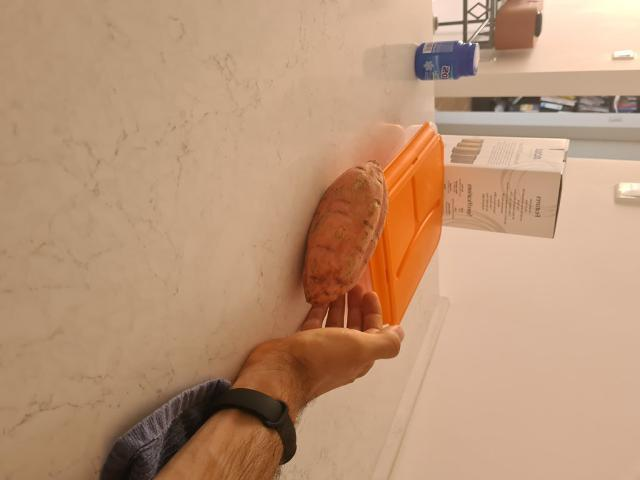sweet_potato: (303, 154, 383, 305)
